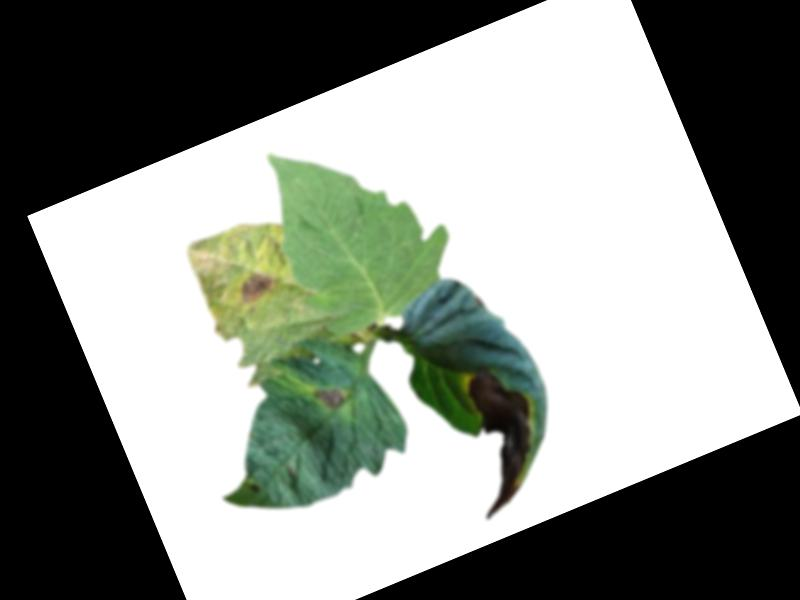Early_blight: (429, 352, 565, 520), (234, 266, 281, 308), (310, 377, 349, 415), (248, 478, 264, 494)
healthy: (244, 99, 473, 350)
